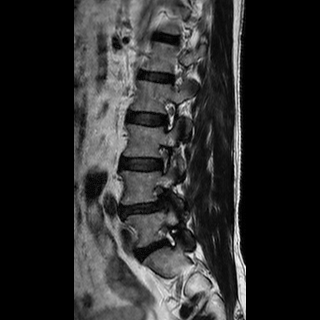LFS0: (154, 93, 180, 135)
LFS1: (152, 219, 179, 254)
LFS2: (151, 139, 175, 177)
LFS3: (149, 180, 175, 216)
